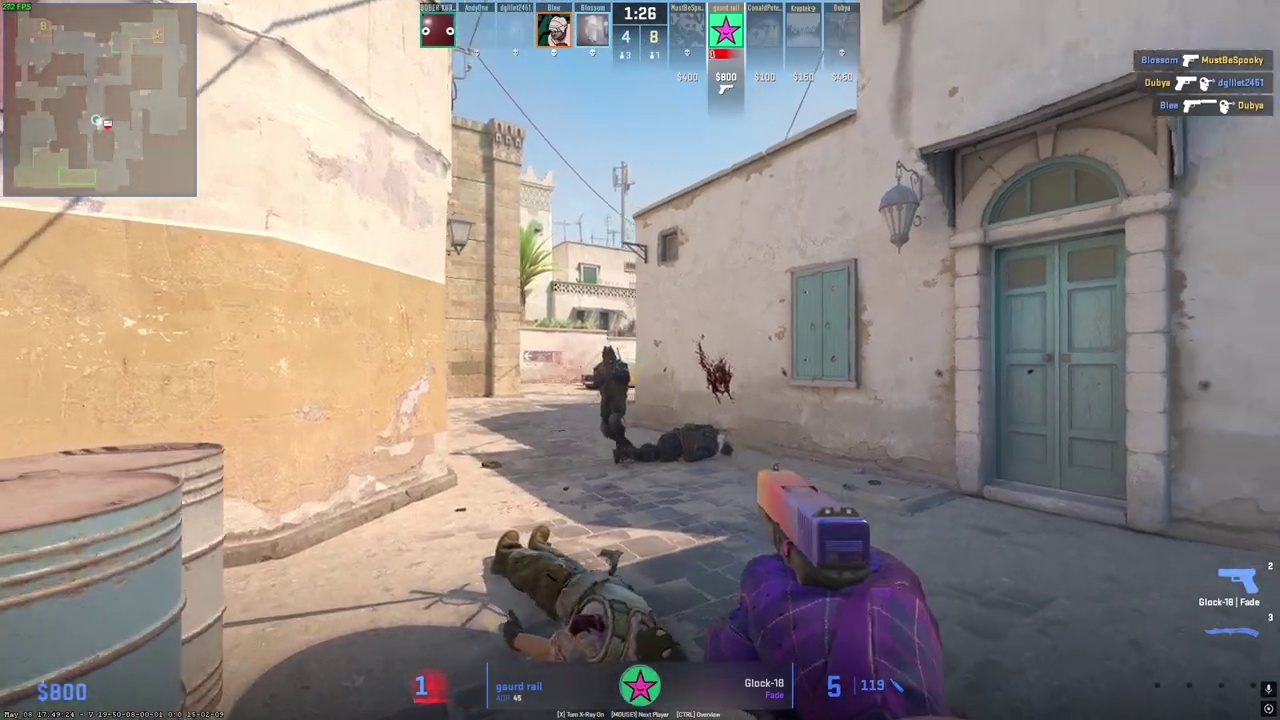CT: (592, 345, 630, 463)
